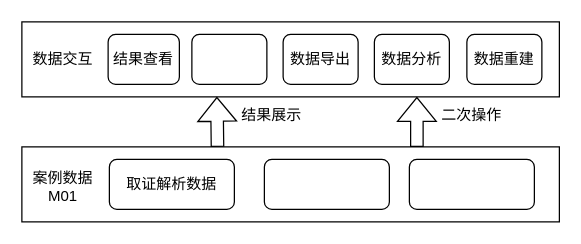
The diagram is 581 pixels wide and 244 high, and some of its shapes have lost their labels. The shapes that lost their labels are listed below. From the top down, each one's centre as x and y in pixels, then its label:
At (229,58): "数据搜索".
At (326,183): "案例信息".
At (471,183): "固证数据".
